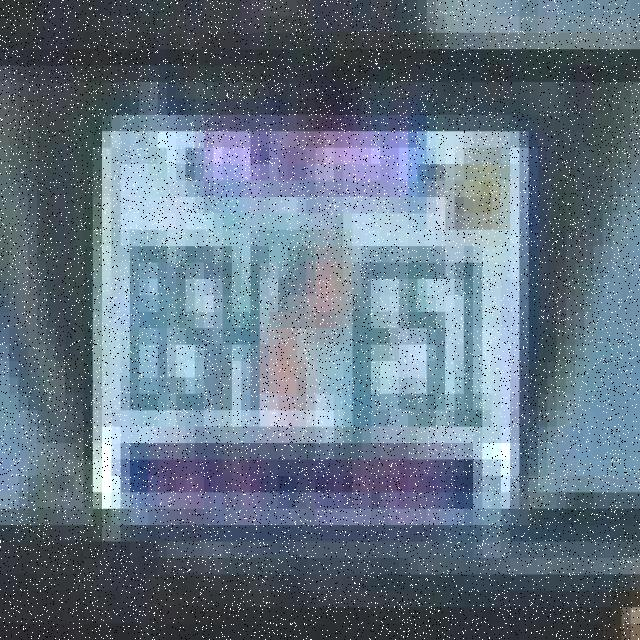licenseplate: (48, 33, 560, 545)
